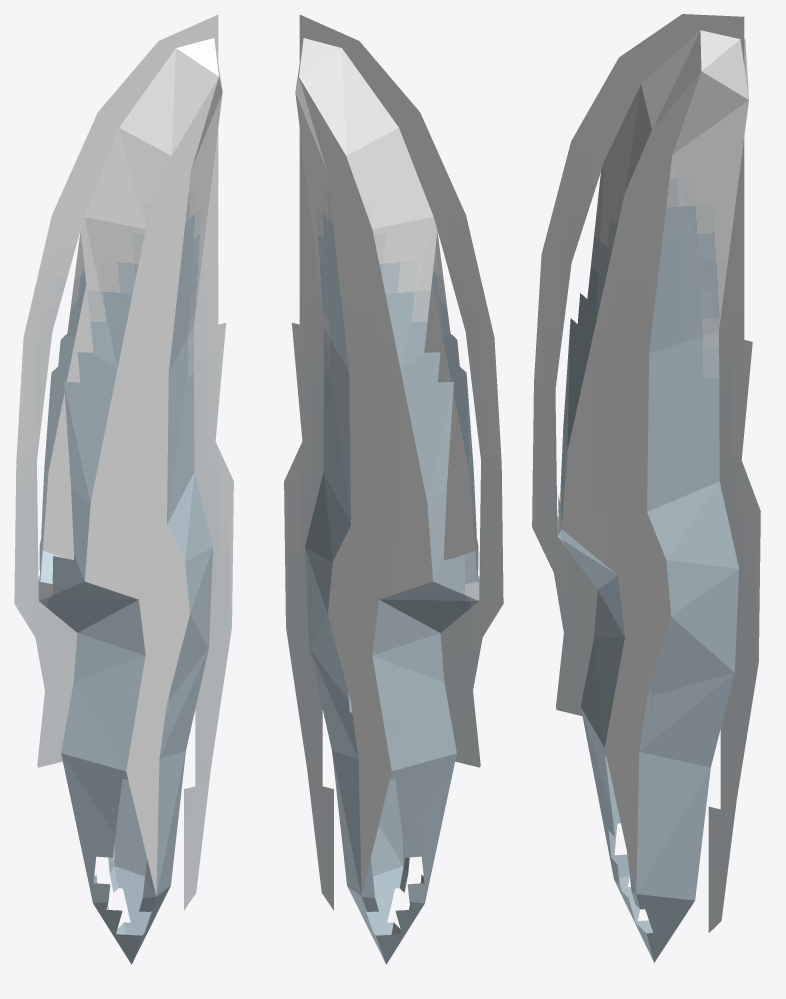
The model's file is malice.obj.
The picture shows the model from 3 angles, left to right: view 1: azimuth 30°, elevation 25°; view 2: azimuth 150°, elevation 25°; view 3: azimuth 330°, elevation 25°; orthographic projection. The views are drawn at different scales.
Bounding box in the file's own units: 31.56 × 125 × 10.
